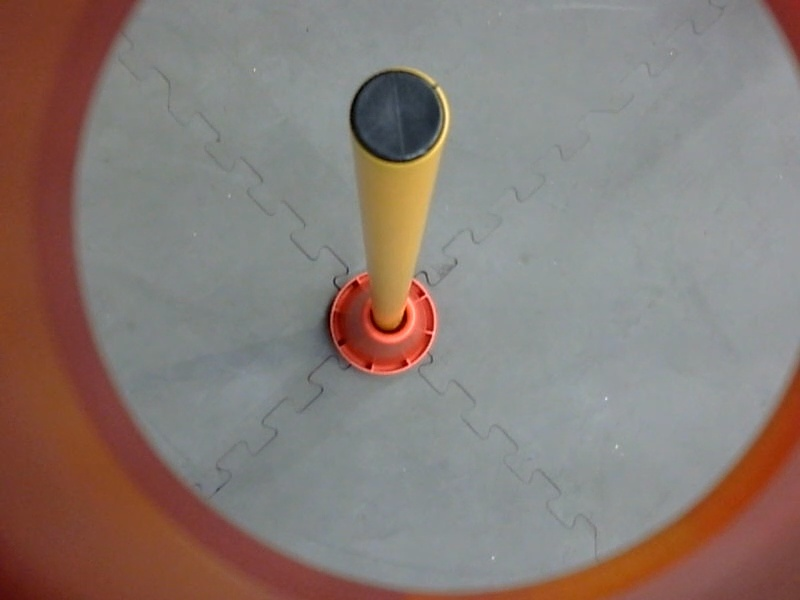tip: (344, 60, 457, 173)
